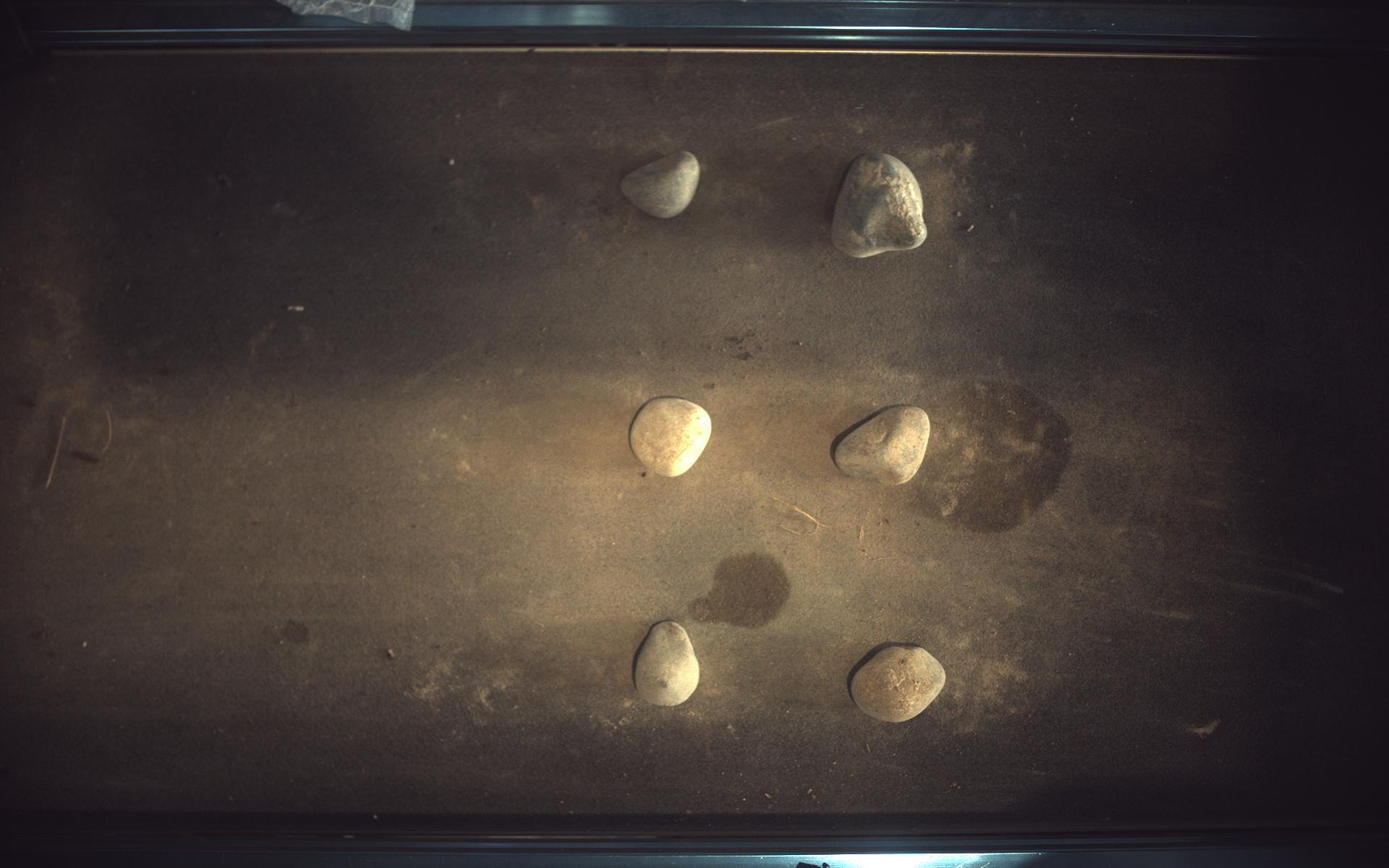stone: (833, 151, 929, 258), (836, 406, 931, 485), (852, 647, 948, 723), (631, 398, 712, 477), (635, 622, 700, 707), (622, 150, 700, 218)
